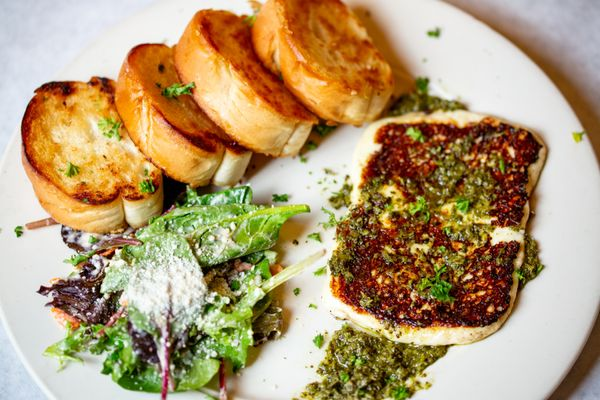curry: (40, 183, 320, 393)
soup: (20, 77, 165, 235)
